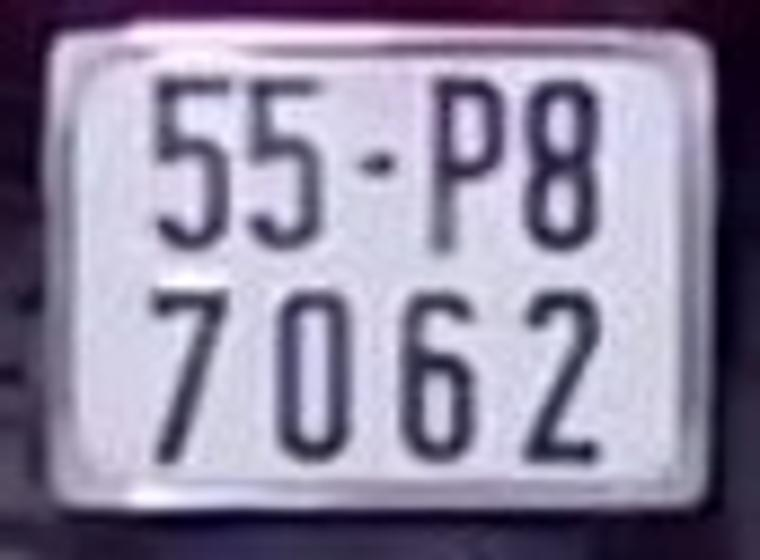-: (357, 154, 388, 173)
0: (274, 291, 354, 464)
2: (521, 286, 599, 463)
5: (245, 75, 323, 246), (152, 73, 227, 249)
6: (396, 291, 477, 464)
7: (149, 285, 225, 464)
8: (525, 77, 597, 251)
P: (429, 76, 505, 251)
